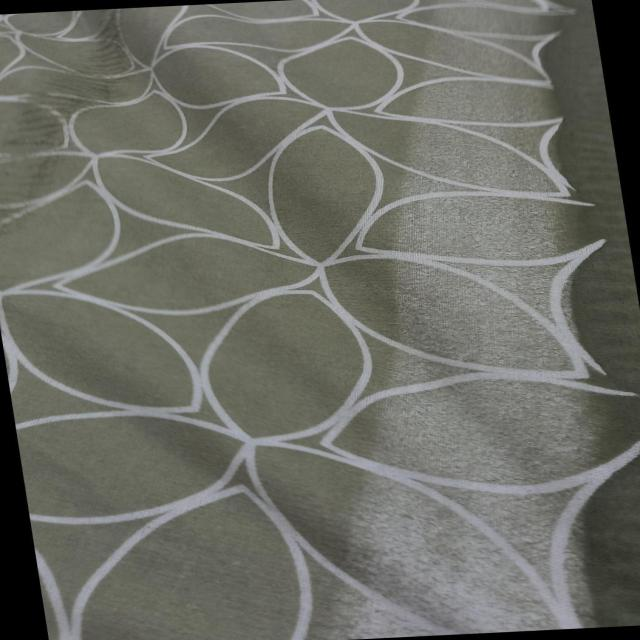baekra: (266, 0, 640, 639), (0, 9, 147, 234)
